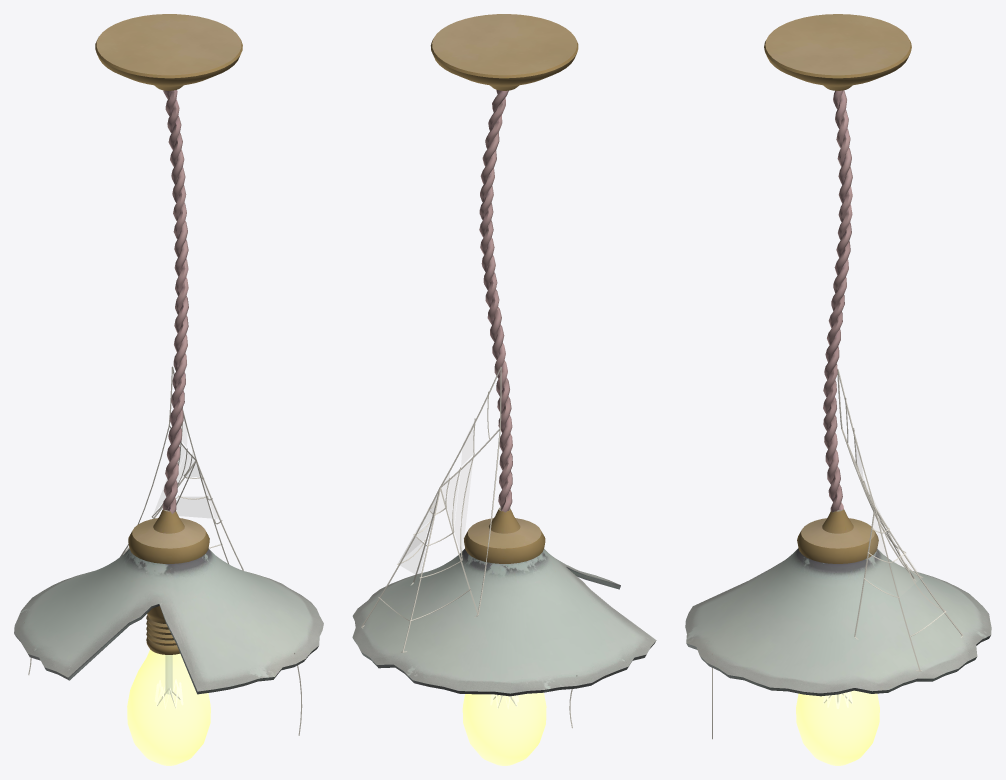
Rendered from hanging-light-bulb.glb.
The picture shows the model from 3 angles, left to right: view 1: azimuth 30°, elevation 25°; view 2: azimuth 150°, elevation 25°; view 3: azimuth 270°, elevation 25°; orthographic projection.
Visible parts, largest first — view 1: hanging-light-bulb_body, hanging-light-bulb_bulb_glow, hanging-light-bulb_web, hanging-light-bulb_filament_glow; view 2: hanging-light-bulb_body, hanging-light-bulb_bulb_glow, hanging-light-bulb_web; view 3: hanging-light-bulb_body, hanging-light-bulb_bulb_glow, hanging-light-bulb_web.
Part boxes in pixels (x1=…): hanging-light-bulb_body: x1=14, y1=14, x2=323, y2=694; hanging-light-bulb_bulb_glow: x1=127, y1=649, x2=210, y2=765; hanging-light-bulb_web: x1=23, y1=366, x2=302, y2=735; hanging-light-bulb_filament_glow: x1=155, y1=655, x2=182, y2=708; hanging-light-bulb_body: x1=352, y1=14, x2=656, y2=696; hanging-light-bulb_bulb_glow: x1=462, y1=692, x2=546, y2=765; hanging-light-bulb_web: x1=361, y1=366, x2=577, y2=728; hanging-light-bulb_body: x1=685, y1=14, x2=991, y2=696; hanging-light-bulb_bulb_glow: x1=796, y1=690, x2=879, y2=765; hanging-light-bulb_web: x1=712, y1=369, x2=963, y2=739.
Bounding box in the file's own units: 0.2333 × 0.6 × 0.232.
Materials: 7 (1 with a texture image).
